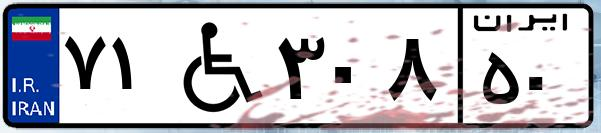0: (330, 28, 385, 110), (525, 38, 570, 115)
1: (110, 28, 158, 98)
3: (270, 28, 330, 110)
5: (475, 38, 525, 113)
7: (57, 26, 110, 100)
8: (385, 28, 445, 110)
ژ (معلولین و جانبازان): (158, 12, 270, 120)
